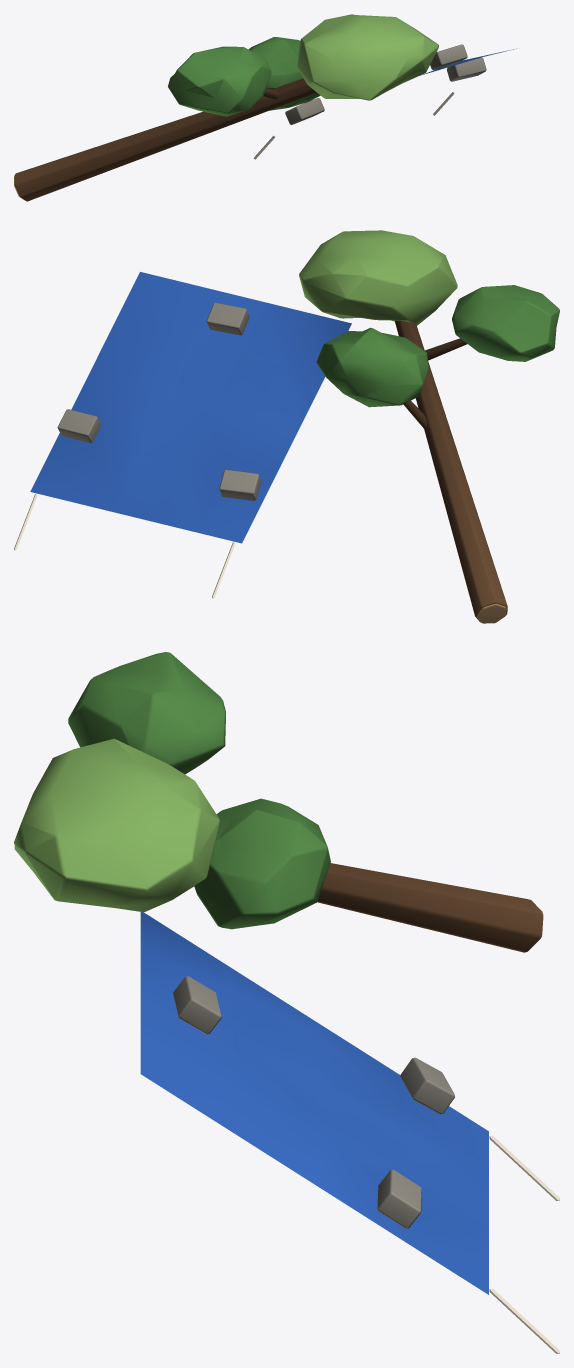
The model's file is roof_damage.glb.
3 renders of one model, top to bottom at view 1: azimuth 30°, elevation 25°; view 2: azimuth 150°, elevation 25°; view 3: azimuth 270°, elevation 25°, orthographic. The views are drawn at different scales.
Parts seen in each view (by area): view 1: Limb, Tarp; view 2: Tarp, Limb; view 3: Limb, Tarp.
Part boxes in pixels (bbox=[...]): Limb: bbox=[14, 14, 438, 201]; Tarp: bbox=[254, 44, 516, 159]; Tarp: bbox=[14, 272, 351, 598]; Limb: bbox=[299, 230, 559, 623]; Limb: bbox=[14, 652, 543, 952]; Tarp: bbox=[140, 912, 559, 1353].
Bounding box in the file's own units: 6.85 × 3.55 × 4.23.
1 material, 1 textured.
